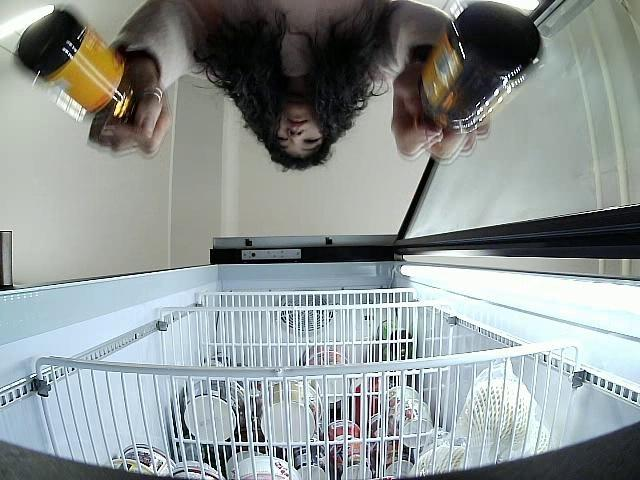17_vita500: (417, 2, 544, 133), (12, 8, 140, 122)
